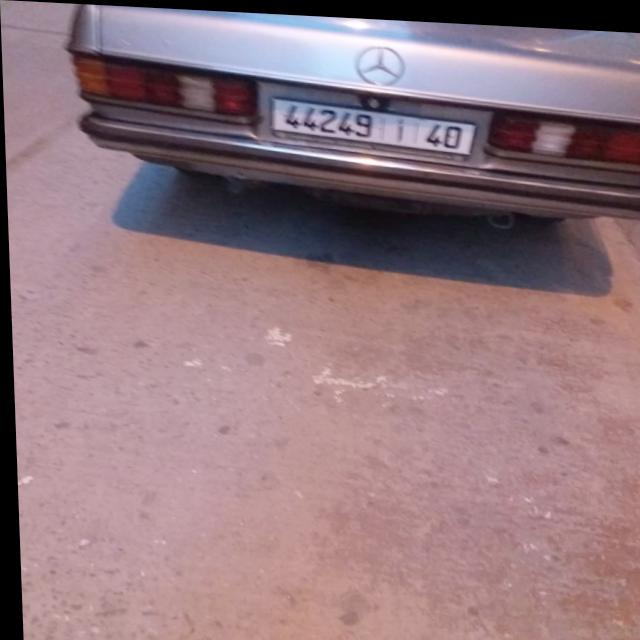License-Plate: (272, 97, 475, 150)
